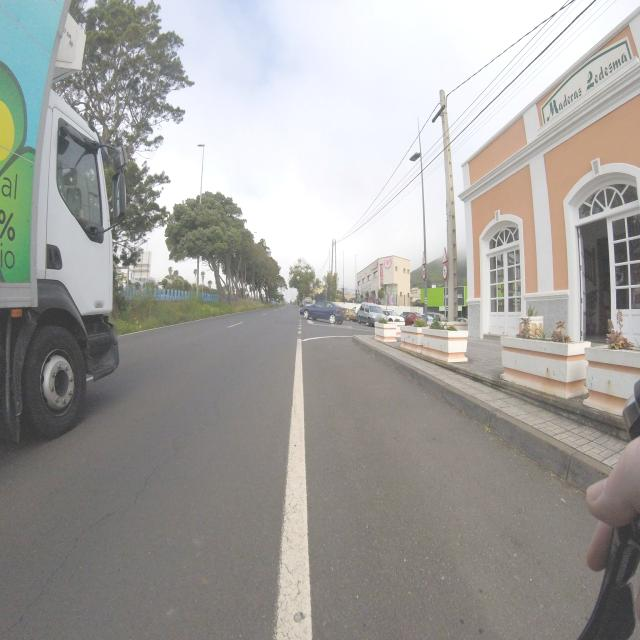car: (300, 300, 345, 325), (357, 303, 388, 327), (400, 311, 418, 325), (386, 310, 401, 323)
